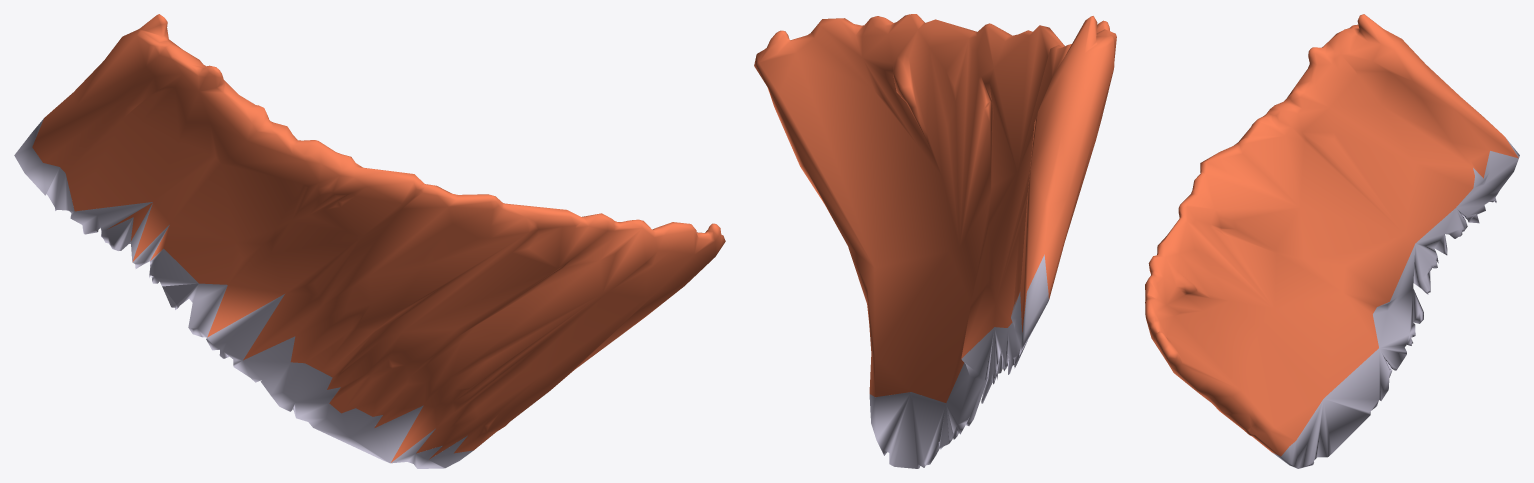
File: Depressor_labii_superioris.r_Generated_Mesh_From_X3D.986.glb
The picture shows the model from 3 angles, left to right: view 1: azimuth 30°, elevation 25°; view 2: azimuth 150°, elevation 25°; view 3: azimuth 270°, elevation 25°; orthographic projection. The views are drawn at different scales.
Parts seen in each view (by area): view 1: Depressor_labii_superioris.r_Generated_Mesh_From_X3D.986; view 2: Depressor_labii_superioris.r_Generated_Mesh_From_X3D.986; view 3: Depressor_labii_superioris.r_Generated_Mesh_From_X3D.986.
Boxes of the visible parts, x1,y1,x2,y2 form: Depressor_labii_superioris.r_Generated_Mesh_From_X3D.986: (14,14,725,468); Depressor_labii_superioris.r_Generated_Mesh_From_X3D.986: (754,14,1116,468); Depressor_labii_superioris.r_Generated_Mesh_From_X3D.986: (1145,14,1519,468).
Bounding box in the file's own units: 0.0306 × 0.0295 × 0.0272.
